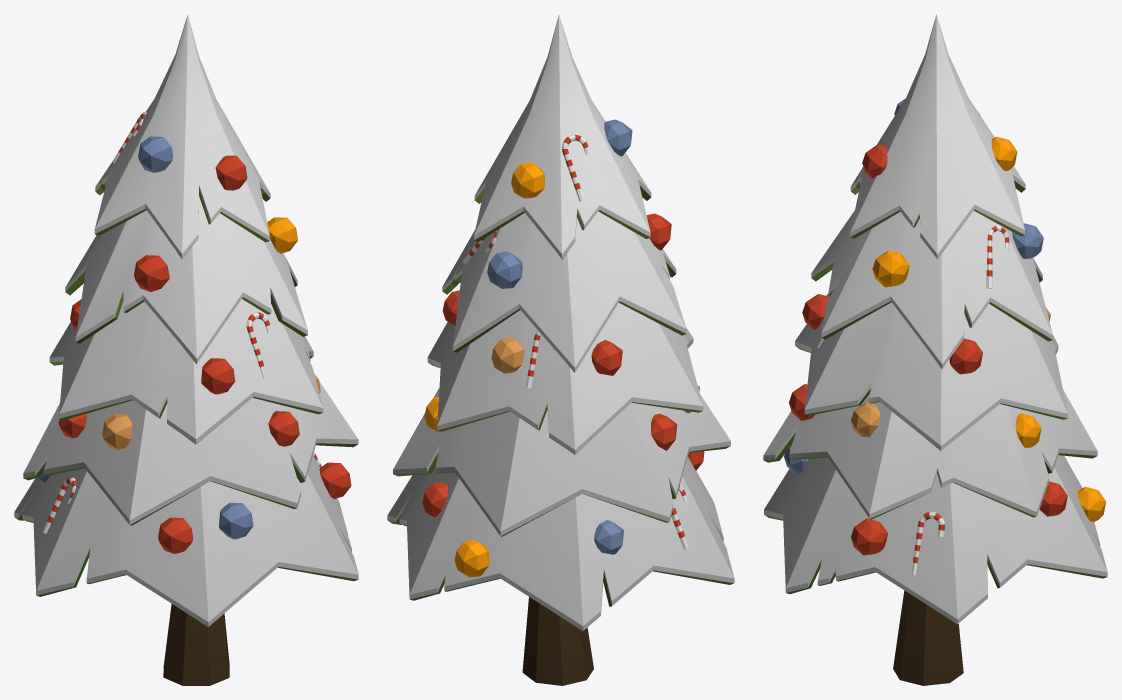
Rendered from ChristmasTree_02.glb.
3 renders of one model, left to right at view 1: azimuth 30°, elevation 25°; view 2: azimuth 150°, elevation 25°; view 3: azimuth 270°, elevation 25°, orthographic.
Visible parts, largest first — view 1: ChristmasTree_02; view 2: ChristmasTree_02; view 3: ChristmasTree_02.
Boxes of the visible parts, x1,y1,x2,y2 form: ChristmasTree_02: (14,14,358,685); ChristmasTree_02: (387,15,734,685); ChristmasTree_02: (763,14,1107,685).
Size of the model in its own units: 1.45 by 2.81 by 1.34.
1 material, 1 textured.
